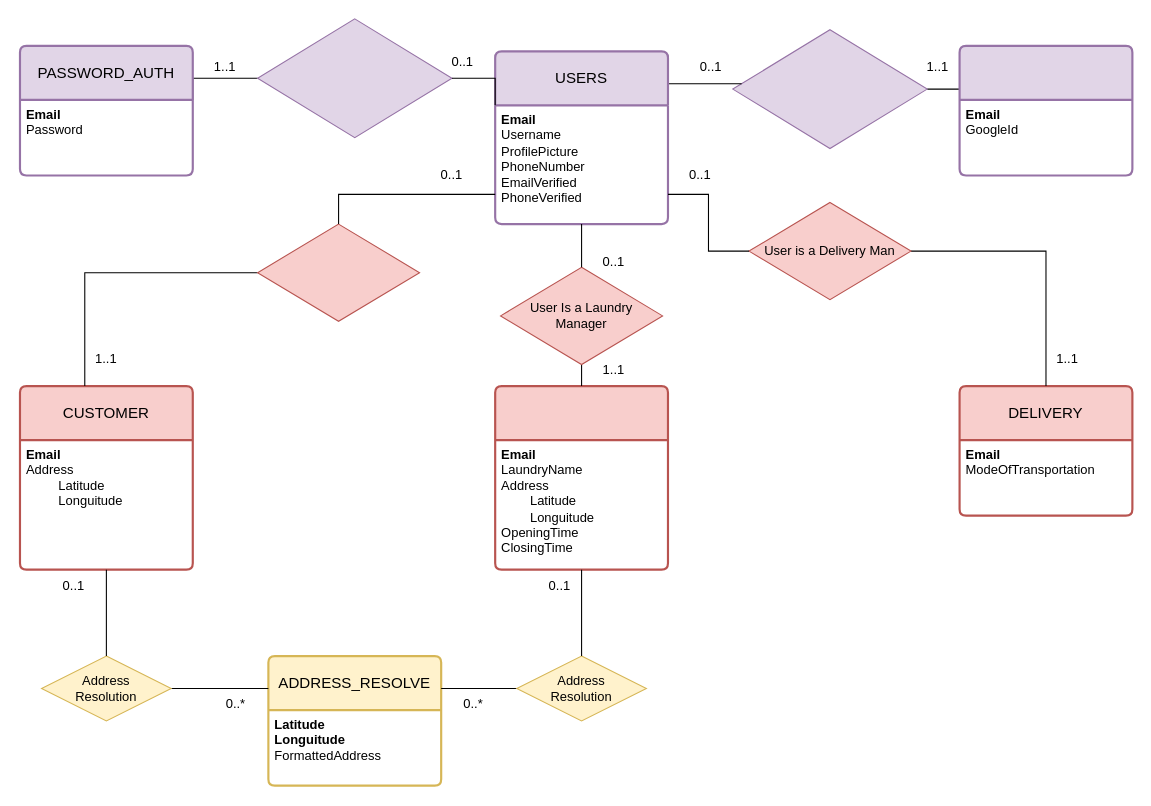
This 1151x806 diagram has some shape labels left out. Each missing label, with the box of its shape:
Authenticated By Password: (256, 18, 452, 138)
GOOGLE_OAUTH: (958, 44, 1133, 176)
MANAGER: (494, 384, 669, 570)
oAuth By Google: (732, 29, 927, 148)
User Is a Customer: (256, 223, 420, 321)
